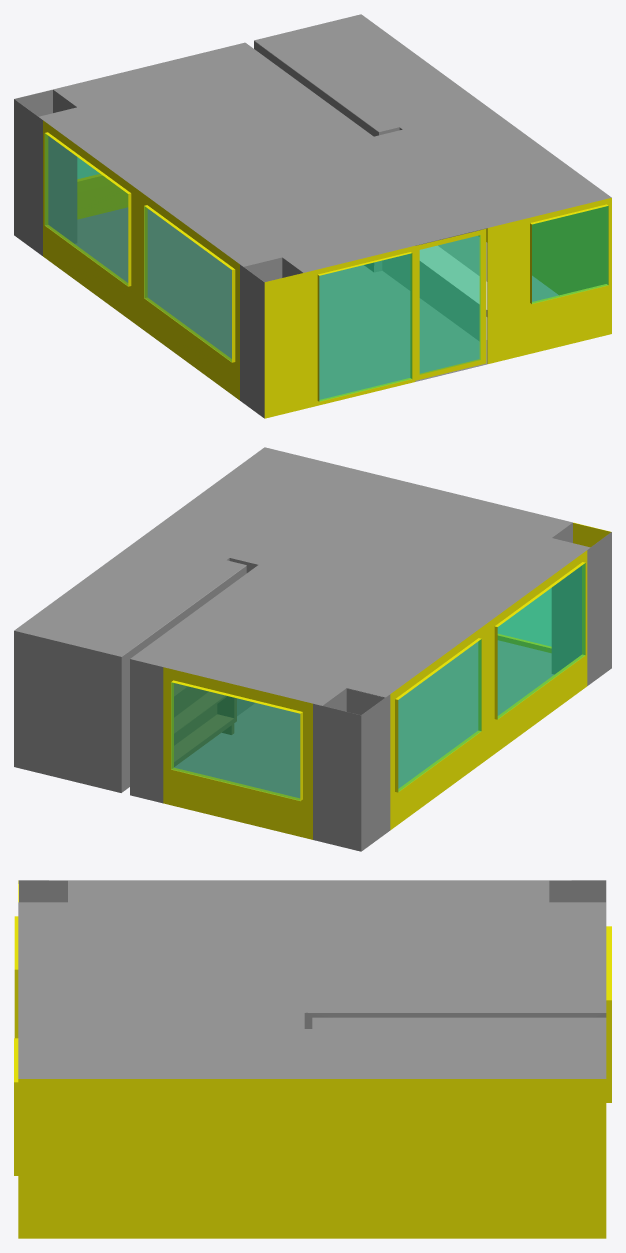
The model's file is cafe.fbx.
The picture shows the model from 3 angles, top to bottom: view 1: azimuth 30°, elevation 25°; view 2: azimuth 150°, elevation 25°; view 3: azimuth 270°, elevation 25°; orthographic projection. The views are drawn at different scales.
Visible parts, largest first — view 1: Cube, Cube.001; view 2: Cube; view 3: Cube.
Part boxes in pixels (x1=…): Cube: x1=14, y1=14, x2=611, y2=418; Cube.001: x1=415, y1=229, x2=486, y2=380; Cube: x1=14, y1=447, x2=611, y2=851; Cube: x1=14, y1=880, x2=611, y2=1238.
Bounding box in the file's own units: 807 × 301 × 1017.
